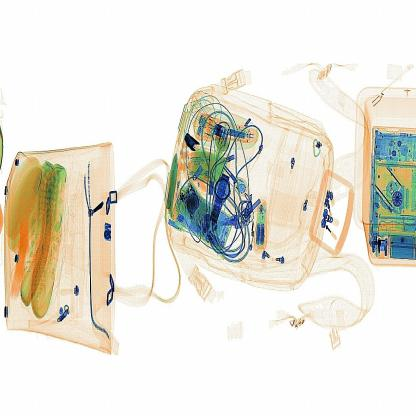wrench: (176, 118, 212, 162)
